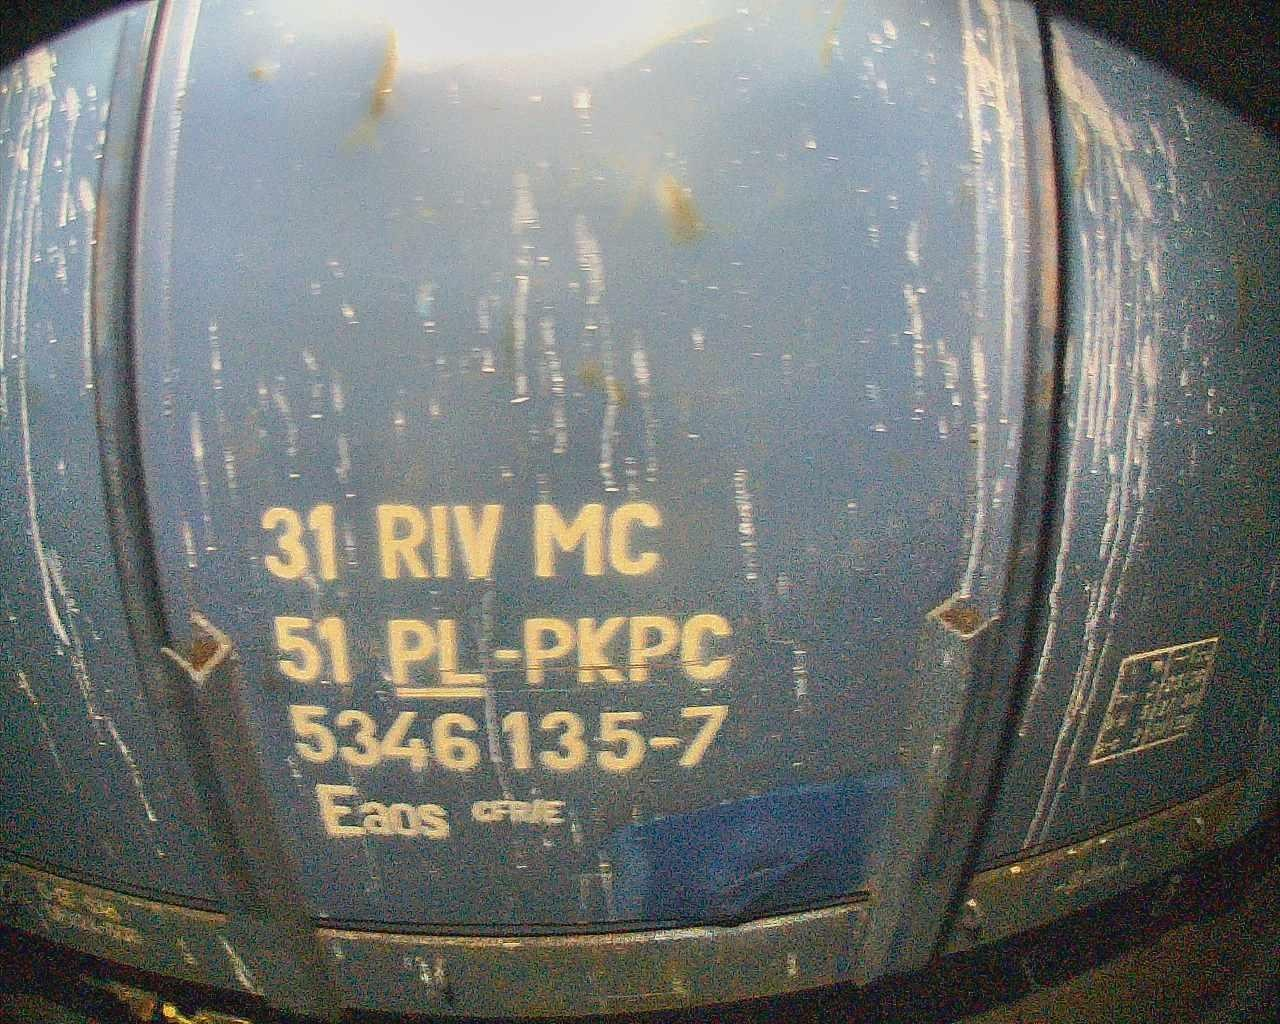UIC: (255, 501, 738, 842)
